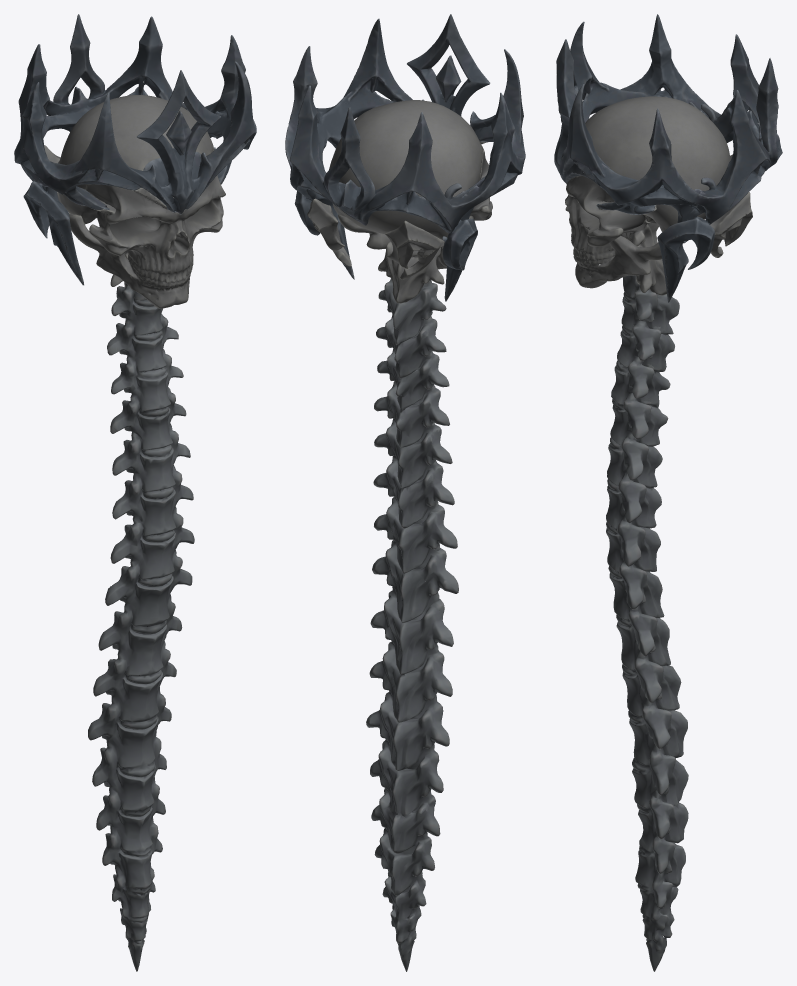
The model's file is blackcrown-skull-desktop.glb.
3 renders of one model, left to right at view 1: azimuth 30°, elevation 25°; view 2: azimuth 150°, elevation 25°; view 3: azimuth 270°, elevation 25°, orthographic.
Visible parts, largest first — view 1: SPINE, CROWN, SKULL_FACE, SKULL_CRANIUM; view 2: SPINE, CROWN, SKULL_CRANIUM, SKULL_FACE, SKULL_REAR_LEFT, SKULL_REAR_RIGHT; view 3: SPINE, CROWN, SKULL_CRANIUM, SKULL_FACE, SKULL_REAR_RIGHT.
Part boxes in pixels (x1=…): SPINE: x1=88, y1=283, x2=194, y2=971; CROWN: x1=14, y1=14, x2=256, y2=285; SKULL_FACE: x1=69, y1=149, x2=225, y2=308; SKULL_CRANIUM: x1=58, y1=95, x2=213, y2=224; SPINE: x1=366, y1=278, x2=458, y2=971; CROWN: x1=285, y1=14, x2=525, y2=301; SKULL_CRANIUM: x1=329, y1=100, x2=483, y2=239; SKULL_FACE: x1=338, y1=142, x2=492, y2=303; SKULL_REAR_LEFT: x1=385, y1=220, x2=444, y2=279; SKULL_REAR_RIGHT: x1=307, y1=198, x2=351, y2=266; SPINE: x1=606, y1=275, x2=688, y2=971; CROWN: x1=554, y1=14, x2=782, y2=302; SKULL_CRANIUM: x1=585, y1=96, x2=730, y2=232; SKULL_FACE: x1=565, y1=175, x2=666, y2=295; SKULL_REAR_RIGHT: x1=710, y1=192, x2=752, y2=257.
Bounding box in the file's own units: 0.0293 × 0.12 × 0.0266.
3 materials, 3 textured.
